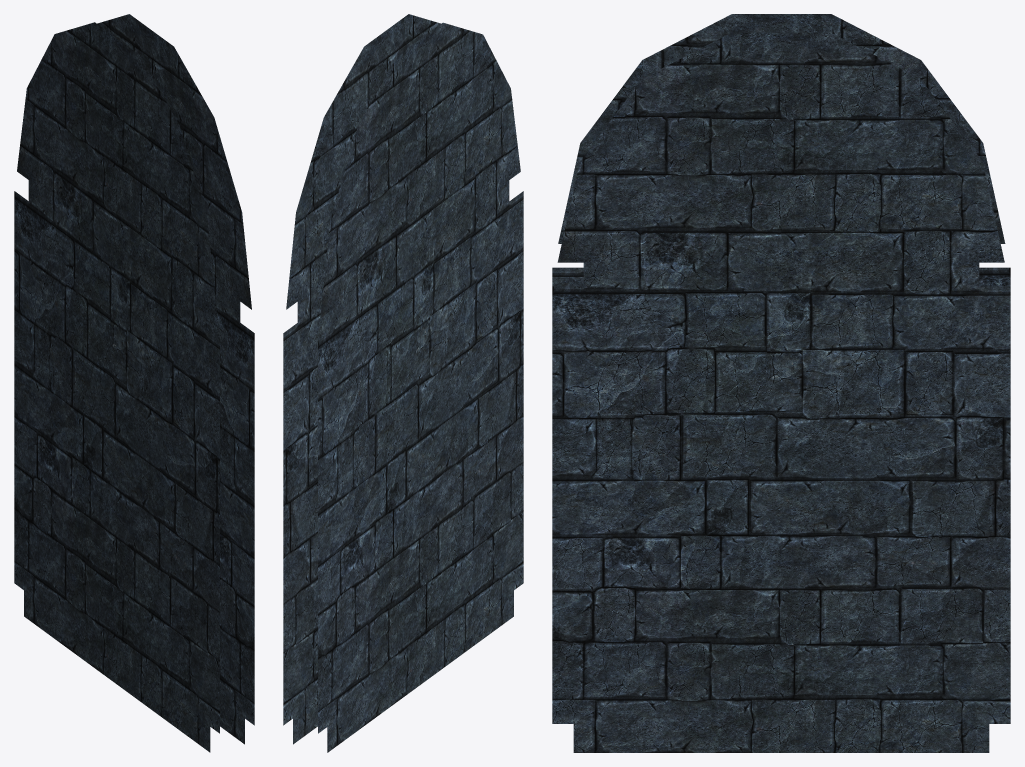
The model's file is StoneWall_arch.FBX.
3 renders of one model, left to right at view 1: azimuth 30°, elevation 25°; view 2: azimuth 150°, elevation 25°; view 3: azimuth 270°, elevation 25°, orthographic. The views are drawn at different scales.
Visible parts, largest first — view 1: StoneWall_arch; view 2: StoneWall_arch; view 3: StoneWall_arch.
Boxes of the visible parts, box(x1,y1,x2,y2) form: StoneWall_arch: box(14, 14, 254, 752); StoneWall_arch: box(283, 14, 523, 752); StoneWall_arch: box(552, 14, 1010, 752).
Bounding box in the file's own units: 2.87 × 51.51 × 29.72.
